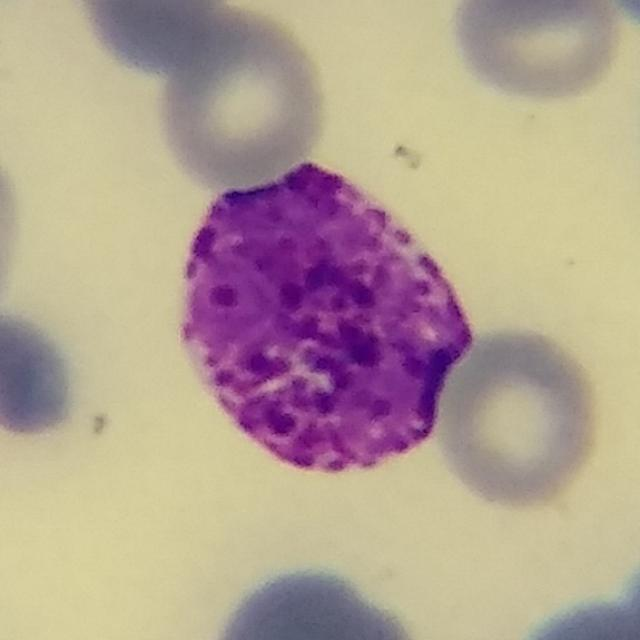baso: (173, 160, 473, 477)
